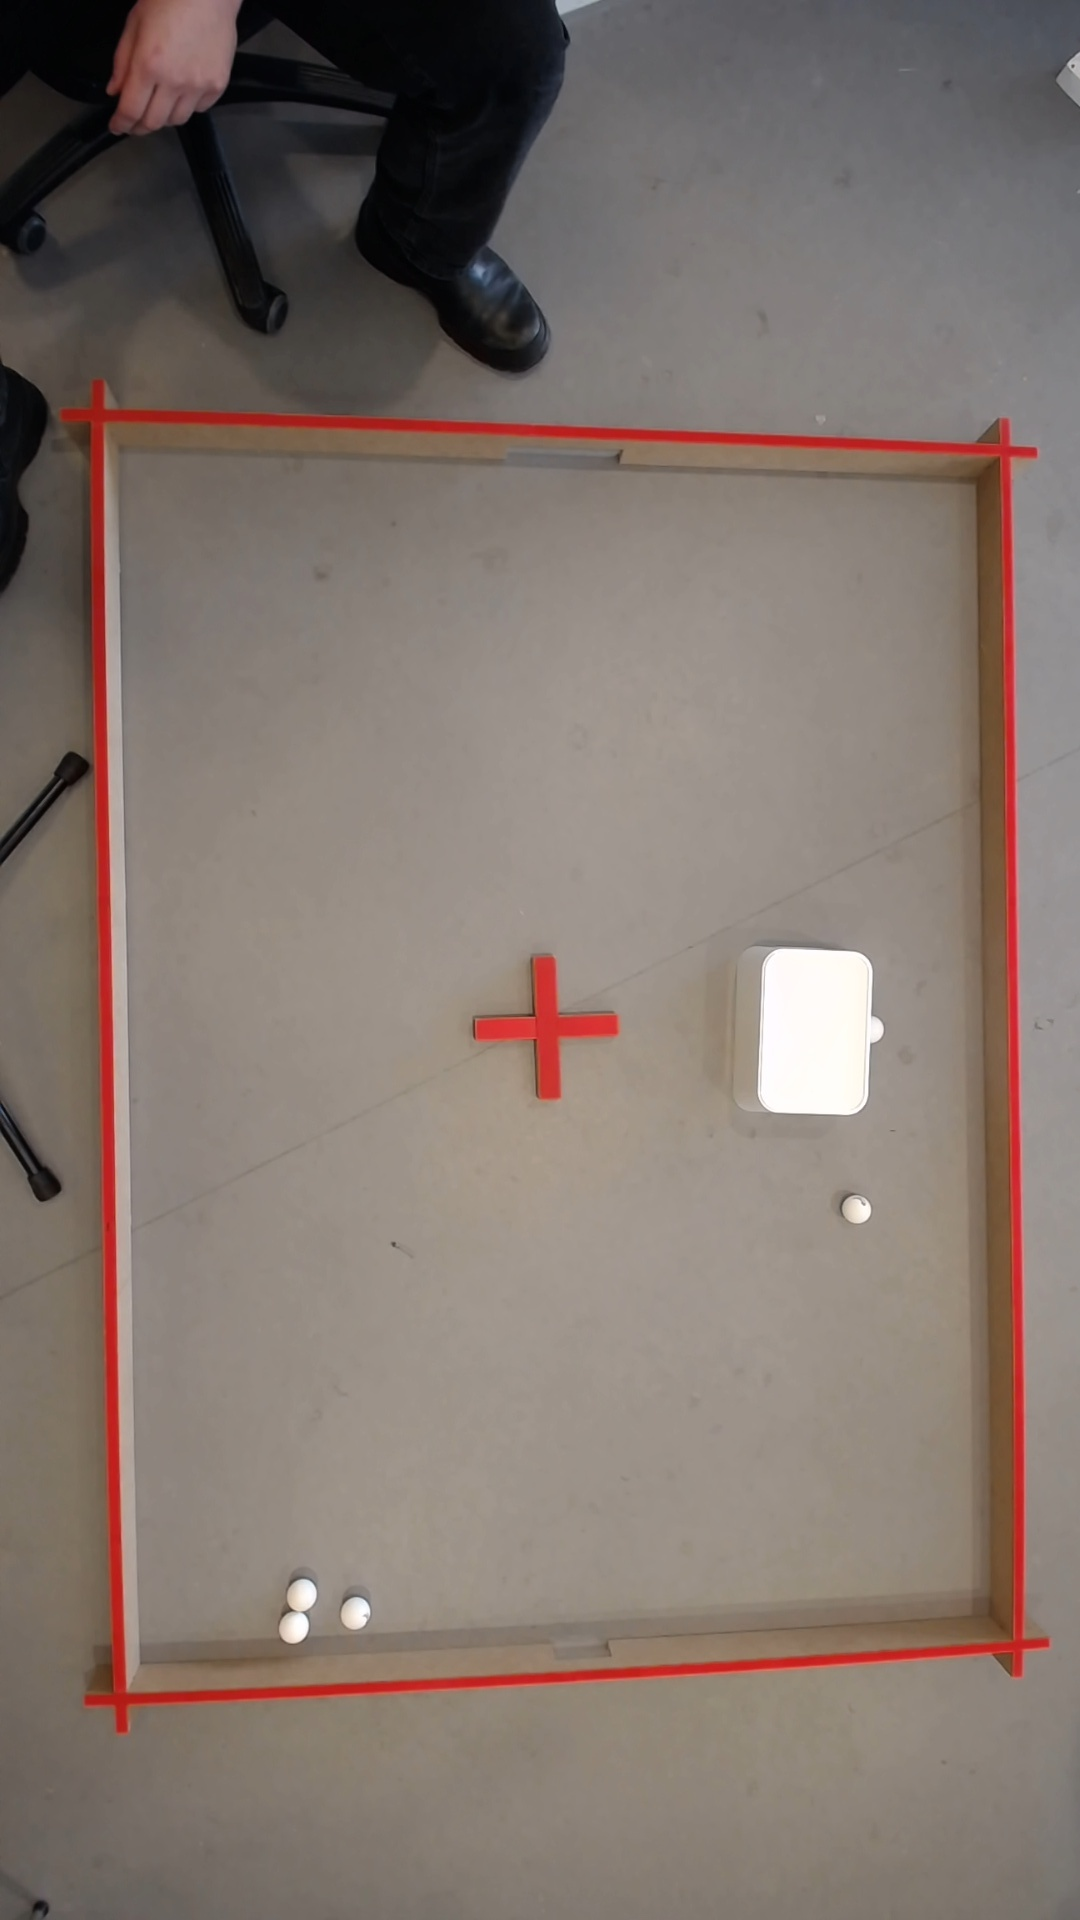balls: (286, 1576, 320, 1614), (340, 1593, 373, 1630), (280, 1607, 311, 1644)
car: (852, 1199, 870, 1222)
